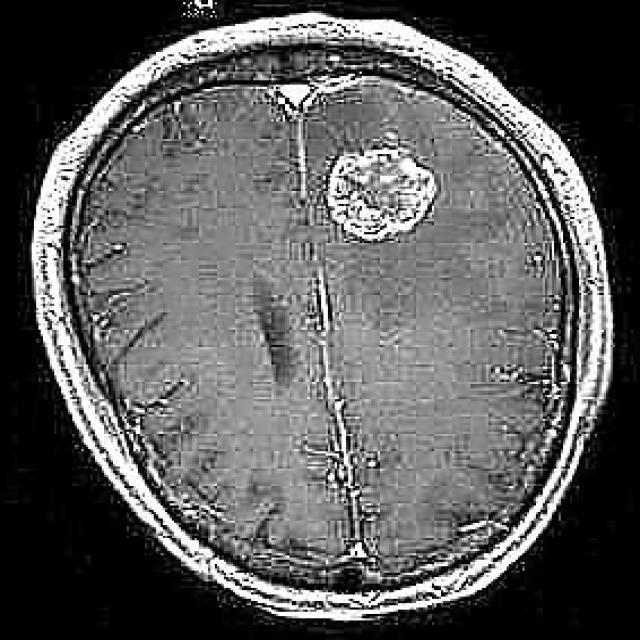Tumor: (323, 140, 440, 250)
